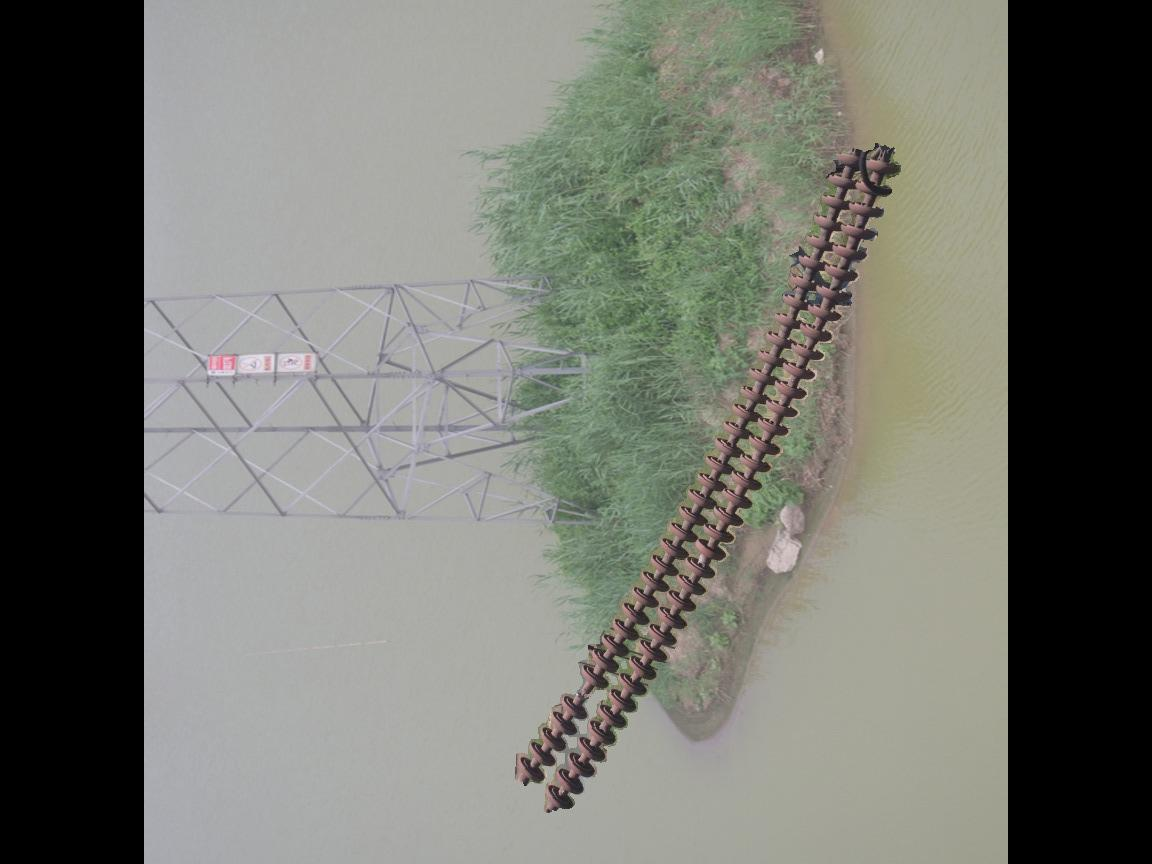insulator: (510, 136, 909, 817)
insulator_stringdrop: (555, 661, 611, 723)
